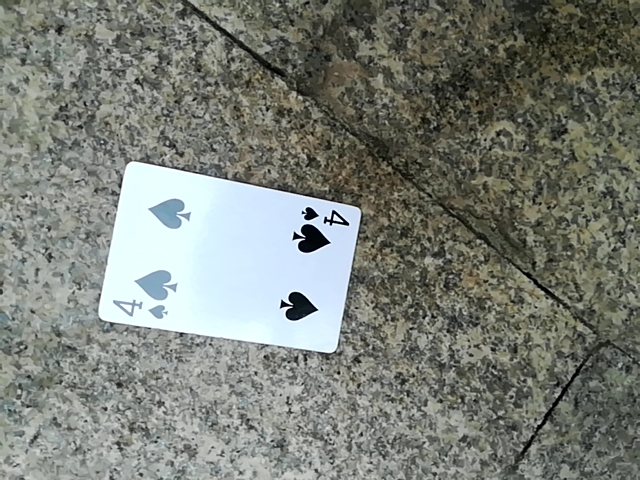ht 4: (98, 168, 361, 360)
